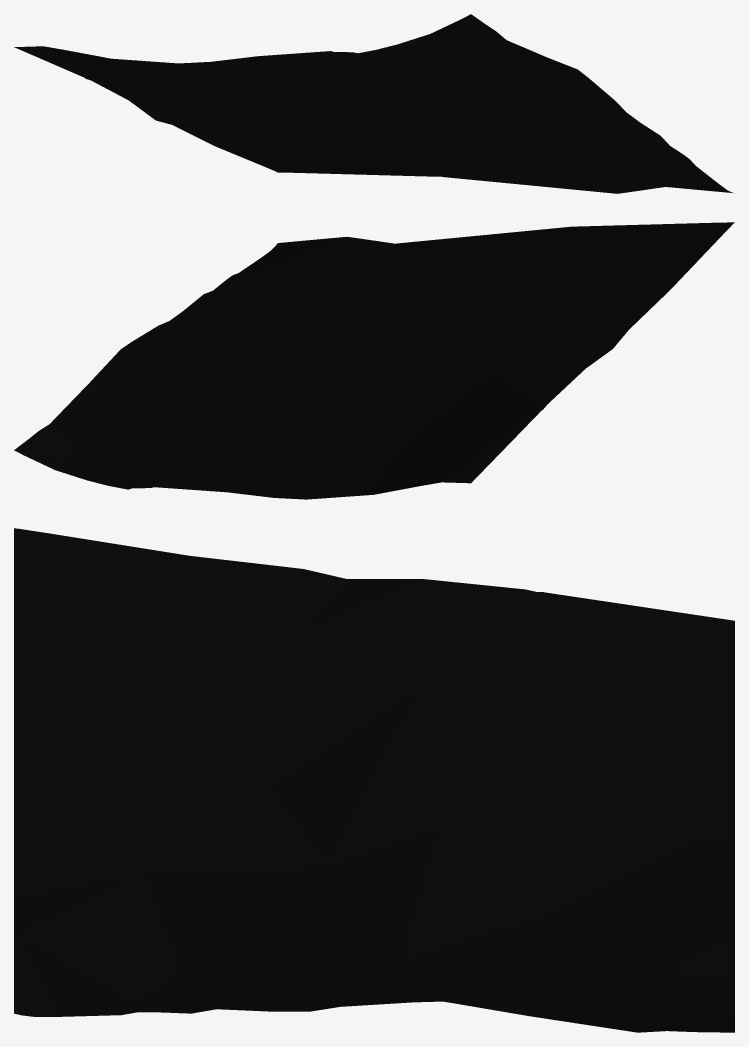
The picture shows the model from 3 angles, top to bottom: view 1: azimuth 30°, elevation 25°; view 2: azimuth 150°, elevation 25°; view 3: azimuth 270°, elevation 25°; orthographic projection. The views are drawn at different scales.
Bounding box in the file's own units: 1.04 × 0.3466 × 1.04.
Materials: 2 (2 with a texture image).
